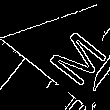M_NW: (31, 16, 102, 83)
